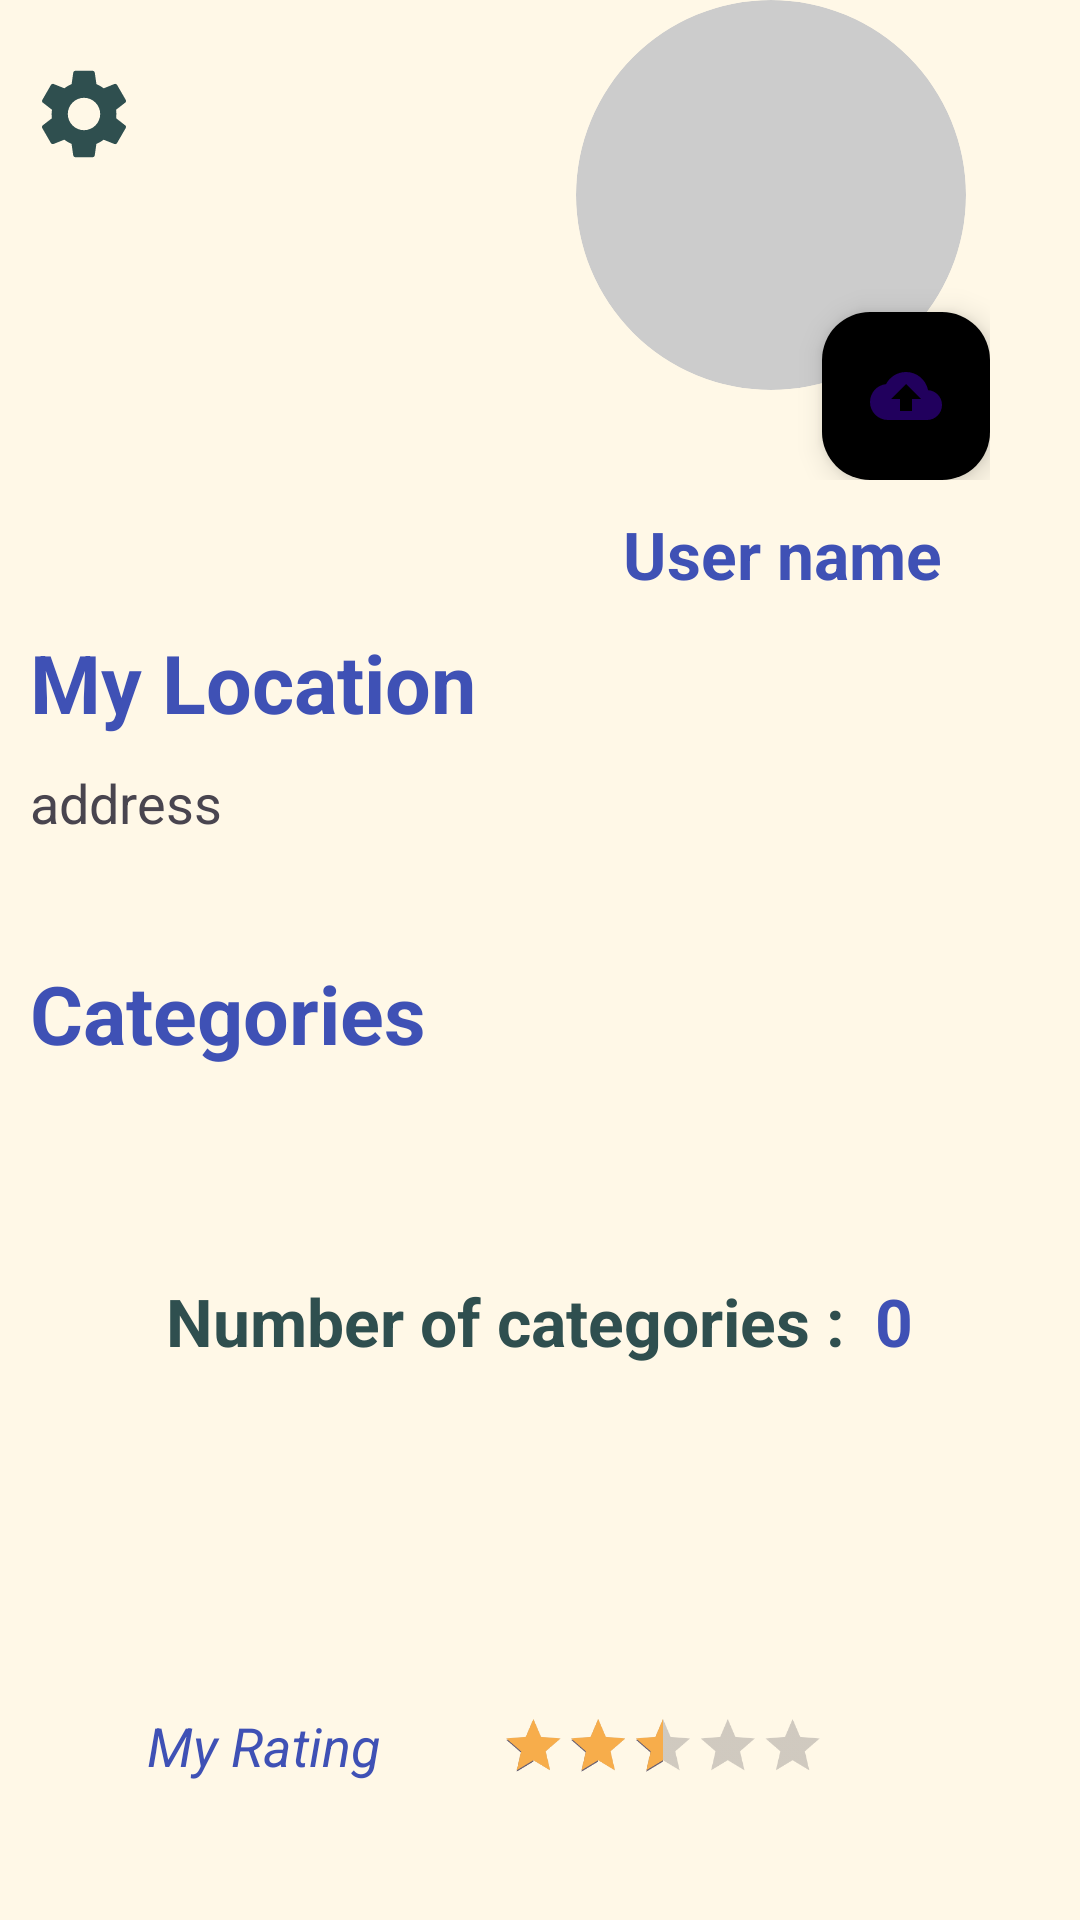

Locate icon controls on the screen. Image size 1080w x 1920h, boxes as box=[x1, y1, x2, y2].
cloud upload: box=[822, 312, 990, 480]
settings: box=[42, 70, 126, 158]
